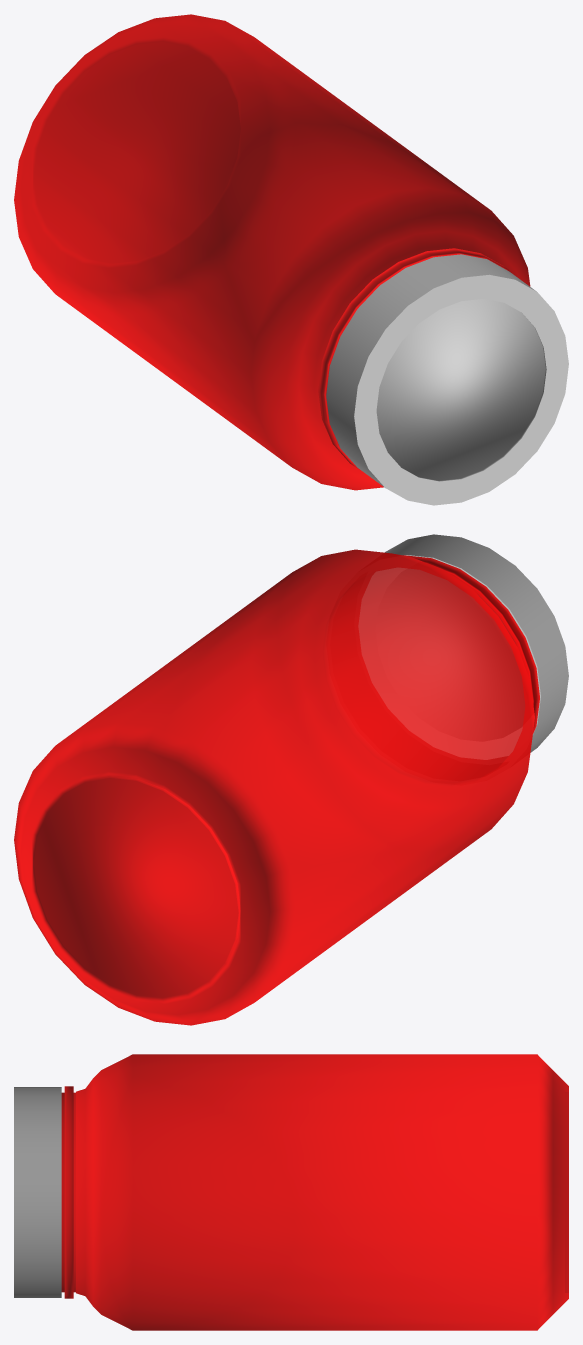
The model's file is model_align.obj.
3 views of the same model, one above another, from view 1: azimuth 30°, elevation 25°; view 2: azimuth 150°, elevation 25°; view 3: azimuth 270°, elevation 25° (orthographic). The views are drawn at different scales.
Visible parts, largest first — view 1: mesh1_mesh1-geometry; view 2: mesh1_mesh1-geometry; view 3: mesh1_mesh1-geometry.
Part boxes in pixels (x1=…): mesh1_mesh1-geometry: x1=14, y1=14, x2=568, y2=505; mesh1_mesh1-geometry: x1=14, y1=534, x2=568, y2=1025; mesh1_mesh1-geometry: x1=14, y1=1054, x2=568, y2=1330.
Size of the model in its own units: 0.07 by 0.07 by 0.1401.
